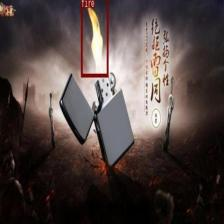fire: (80, 0, 108, 77)
